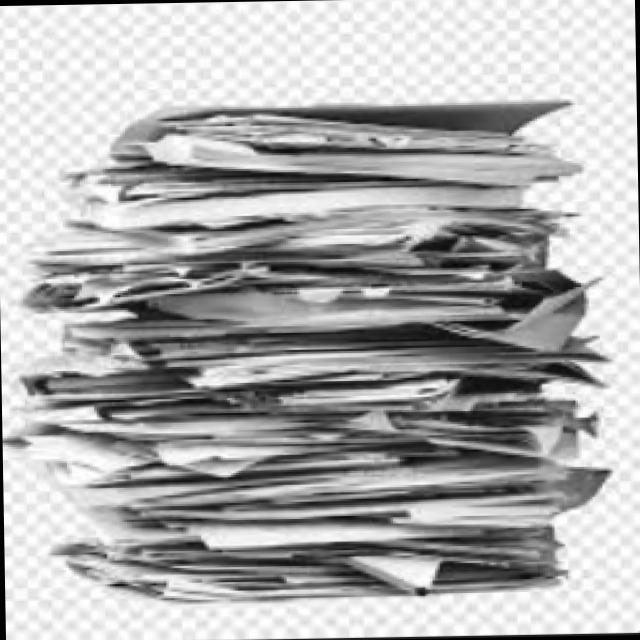KertasBekas: (0, 93, 617, 607)
